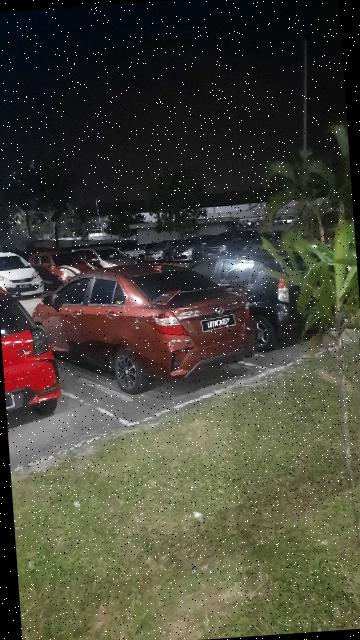License_Plate: (199, 311, 239, 335)
car: (25, 253, 251, 389)
